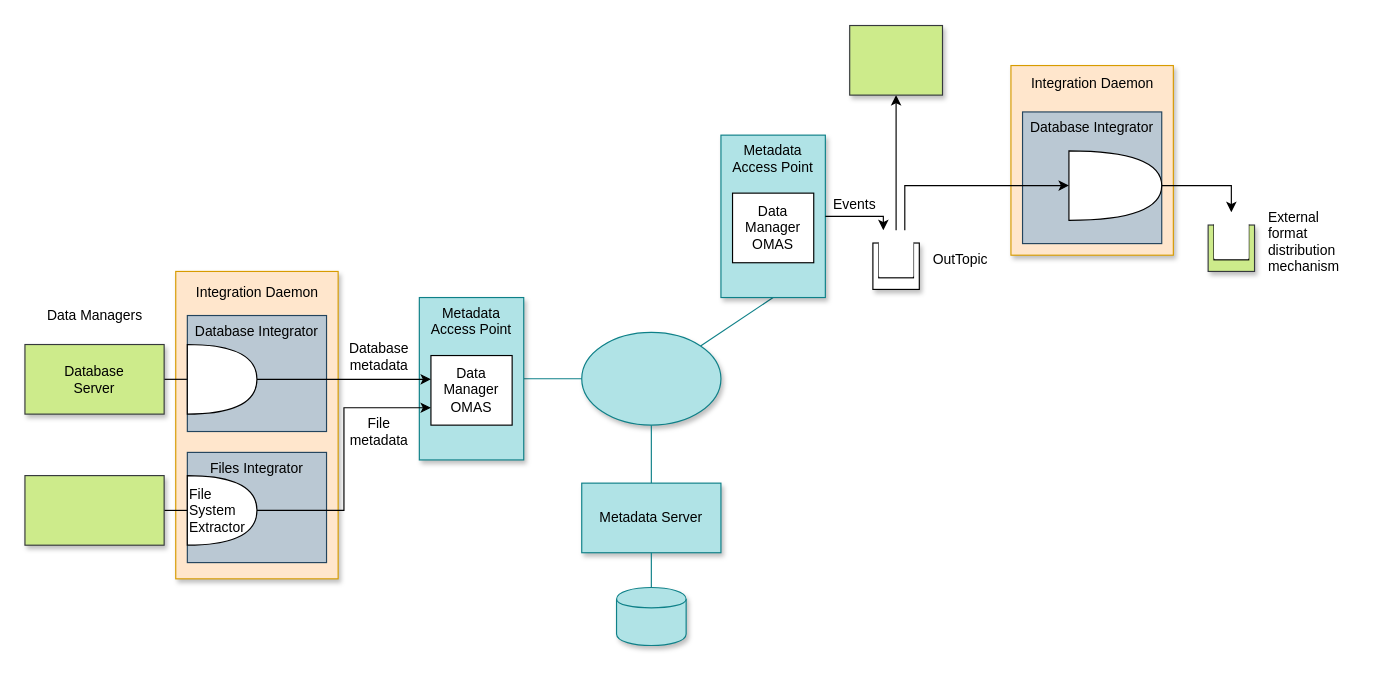
This 1379x674 diagram has some shape labels left out. Each missing label, with the centre of its shape:
Cohort: (652,380)
Data Asset Distributor: (1115,185)
Database Extractor: (221,378)
FileSystem: (95,511)
Native receiver: (896,61)
